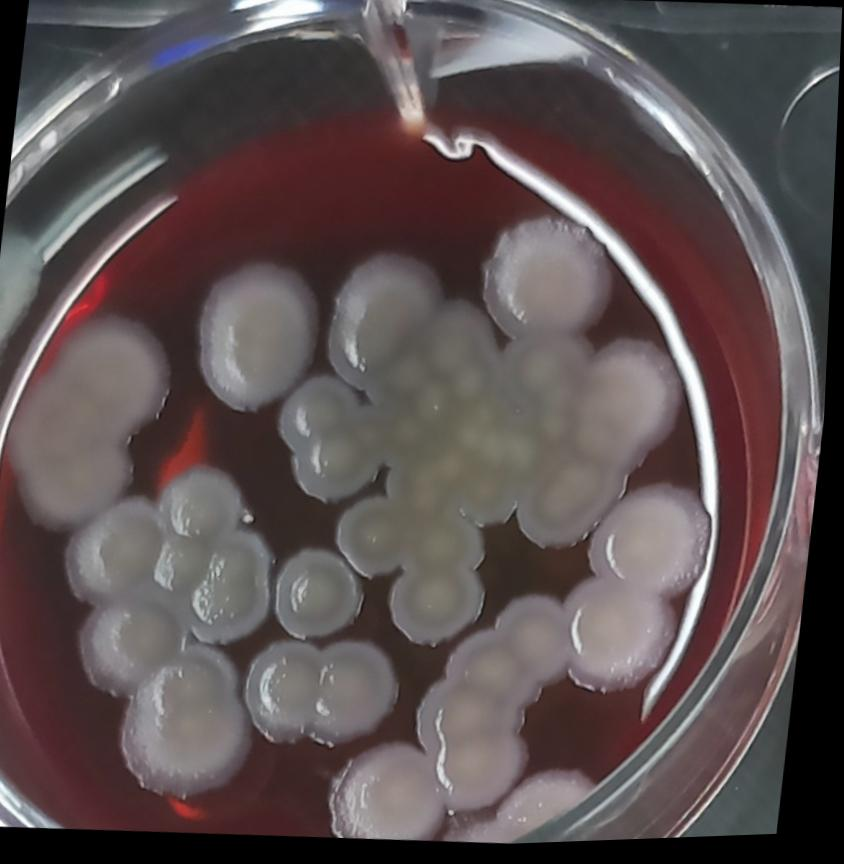bcereus: (112, 643, 272, 813), (314, 729, 462, 849)
